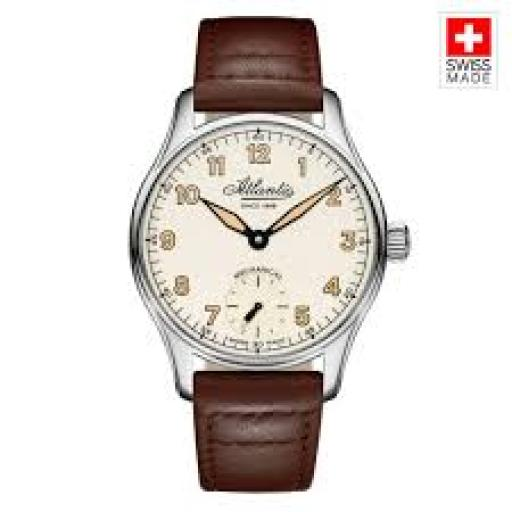KolSaati: (108, 11, 414, 486)
